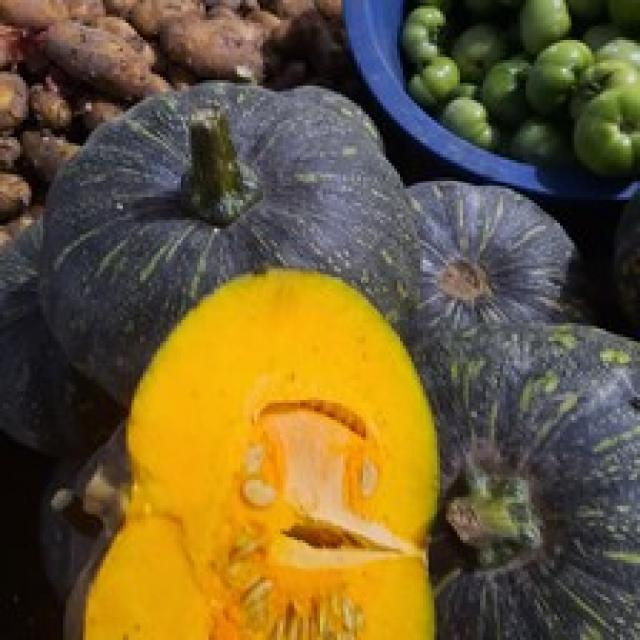Potato: (28, 10, 184, 91)
Pumpkin: (62, 275, 455, 640), (55, 103, 432, 386), (456, 301, 639, 640)
